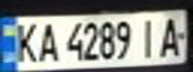2: (78, 18, 100, 62)
4: (60, 18, 84, 62)
8: (97, 18, 118, 61)
9: (112, 17, 136, 61)
A: (154, 14, 187, 58), (33, 19, 60, 63)
I: (136, 15, 163, 60)
K: (9, 18, 42, 64)
